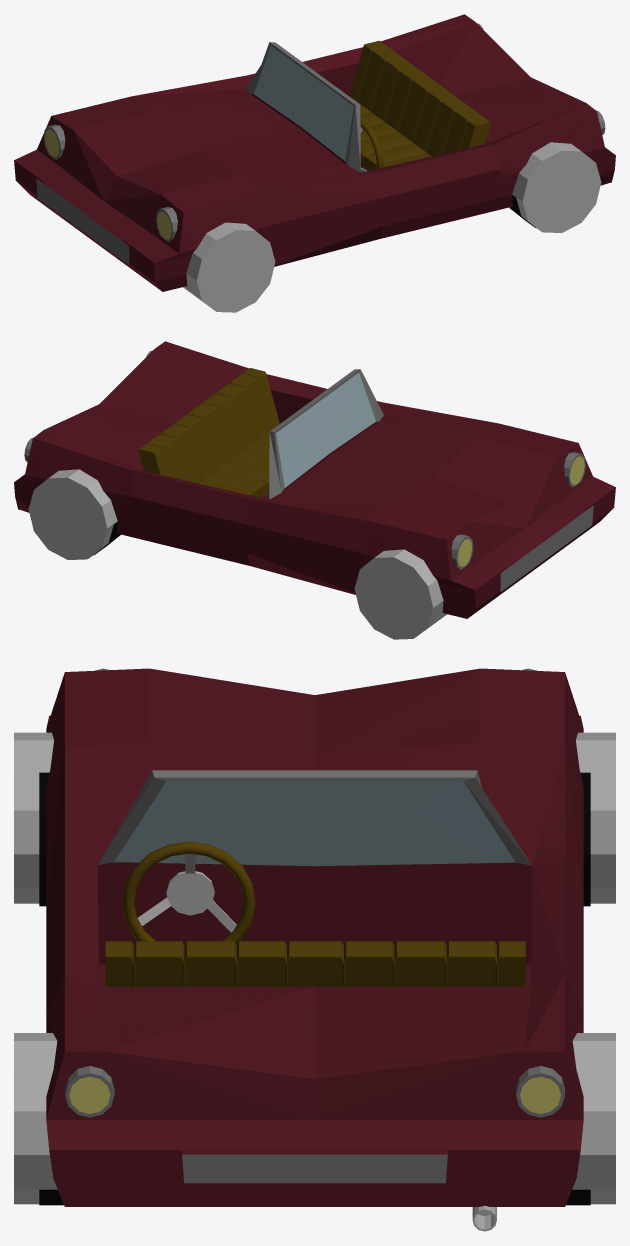
File: carv1.fbx
3 views of the same model, one above another, from view 1: azimuth 30°, elevation 25°; view 2: azimuth 150°, elevation 25°; view 3: azimuth 270°, elevation 25° (orthographic). The views are drawn at different scales.
Parts seen in each view (by area): view 1: body, polySurface1, tobeDeleted_, tobeDeleted_1, seatv3, seatv2, light1, light, pCylinder2; view 2: body, polySurface1, tobeDeleted_, tobeDeleted_1, seatv2, seatv3, light, light1; view 3: body, polySurface1, tobeDeleted_1, tobeDeleted_, seatv2, seatv3, pCylinder2, wheel1, light2, light3, wheel2.
Boxes of the visible parts, <box> form: body: <box>14,14,615,291</box>; polySurface1: <box>37,15,615,290</box>; tobeDeleted_: <box>183,222,275,312</box>; tobeDeleted_1: <box>402,34,601,232</box>; seatv3: <box>360,81,491,170</box>; seatv2: <box>349,40,434,147</box>; light1: <box>156,207,177,242</box>; light: <box>43,124,65,159</box>; pCylinder2: <box>360,120,383,172</box>; body: <box>14,341,615,618</box>; polySurface1: <box>15,342,593,608</box>; tobeDeleted_: <box>354,549,446,639</box>; tobeDeleted_1: <box>28,361,227,559</box>; seatv2: <box>138,408,269,497</box>; seatv3: <box>195,368,279,474</box>; light: <box>451,534,473,569</box>; light1: <box>564,452,585,487</box>; body: <box>46,668,583,1206</box>; polySurface1: <box>46,668,583,1182</box>; tobeDeleted_1: <box>14,1033,615,1204</box>; tobeDeleted_: <box>14,732,615,903</box>; seatv2: <box>315,941,525,987</box>; seatv3: <box>105,941,315,987</box>; pCylinder2: <box>122,841,255,944</box>; wheel1: <box>39,772,590,906</box>; light2: <box>65,1066,114,1117</box>; light3: <box>516,1066,564,1117</box>; wheel2: <box>39,1189,590,1205</box>.
Bounding box in the file's own units: 10.18 × 2.98 × 6.
